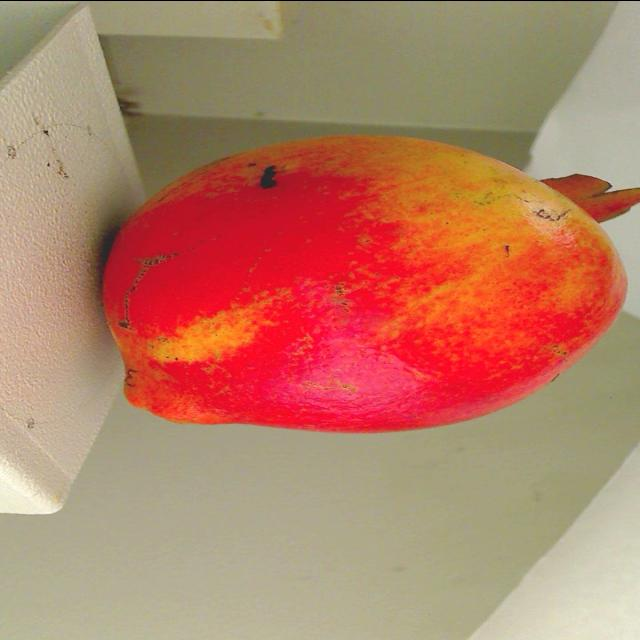pomegranate: (82, 124, 640, 436)
